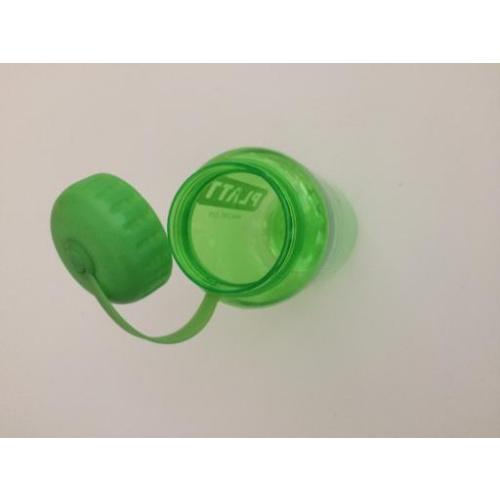plastic: (168, 144, 334, 311)
